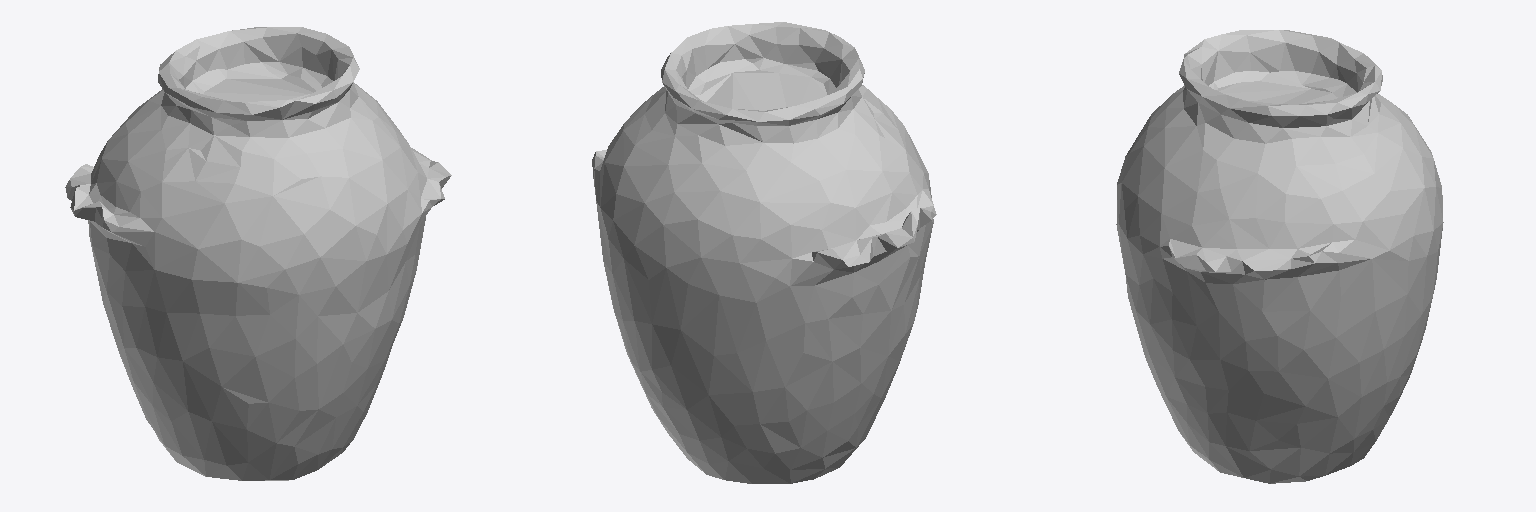
File: abydos_pot.obj
3 renders of one model, left to right at view 1: azimuth 30°, elevation 25°; view 2: azimuth 150°, elevation 25°; view 3: azimuth 270°, elevation 25°, orthographic.
Parts seen in each view (by area): view 1: UC10769_Dware; view 2: UC10769_Dware; view 3: UC10769_Dware.
Part boxes in pixels (bbox=[...]): UC10769_Dware: bbox=[65, 27, 451, 480]; UC10769_Dware: bbox=[592, 22, 936, 483]; UC10769_Dware: bbox=[1116, 30, 1443, 483].
Bounding box in the file's own units: 0.635 × 0.7178 × 0.5481.